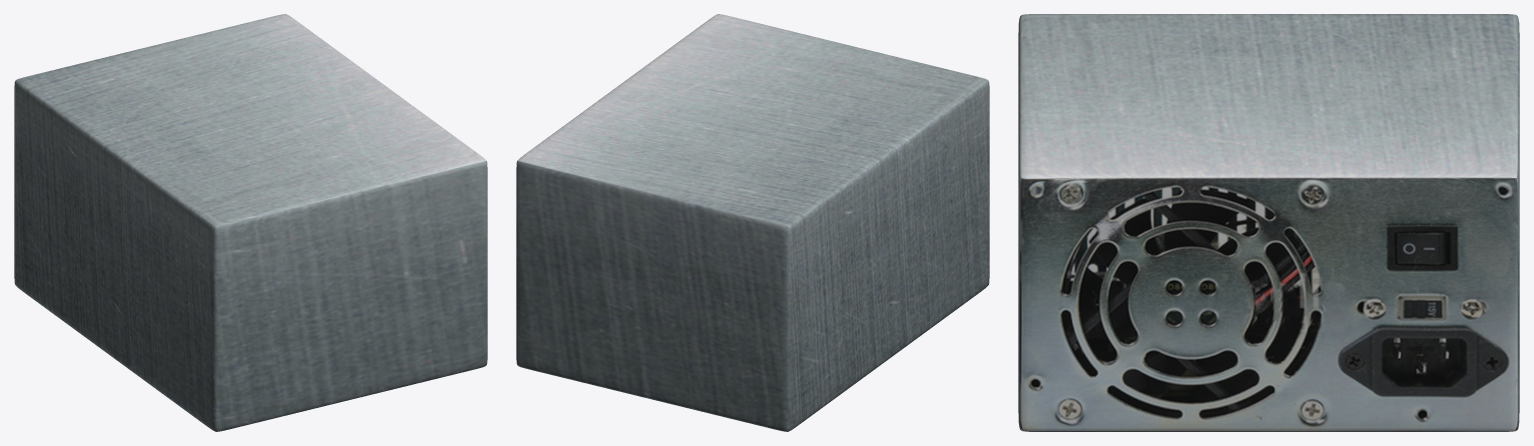
The model's file is powerSupply.gltf.
The picture shows the model from 3 angles, left to right: view 1: azimuth 30°, elevation 25°; view 2: azimuth 150°, elevation 25°; view 3: azimuth 270°, elevation 25°; orthographic projection. The views are drawn at different scales.
Visible parts, largest first — view 1: powerSupply; view 2: powerSupply; view 3: powerSupply.
Part boxes in pixels (x1,y1,x2,y2): powerSupply: [14, 14, 487, 431]; powerSupply: [516, 14, 989, 431]; powerSupply: [1018, 14, 1519, 431].
Size of the model in its own units: 2.33 by 1.69 by 2.98.
Materials: 1 (1 with a texture image).
